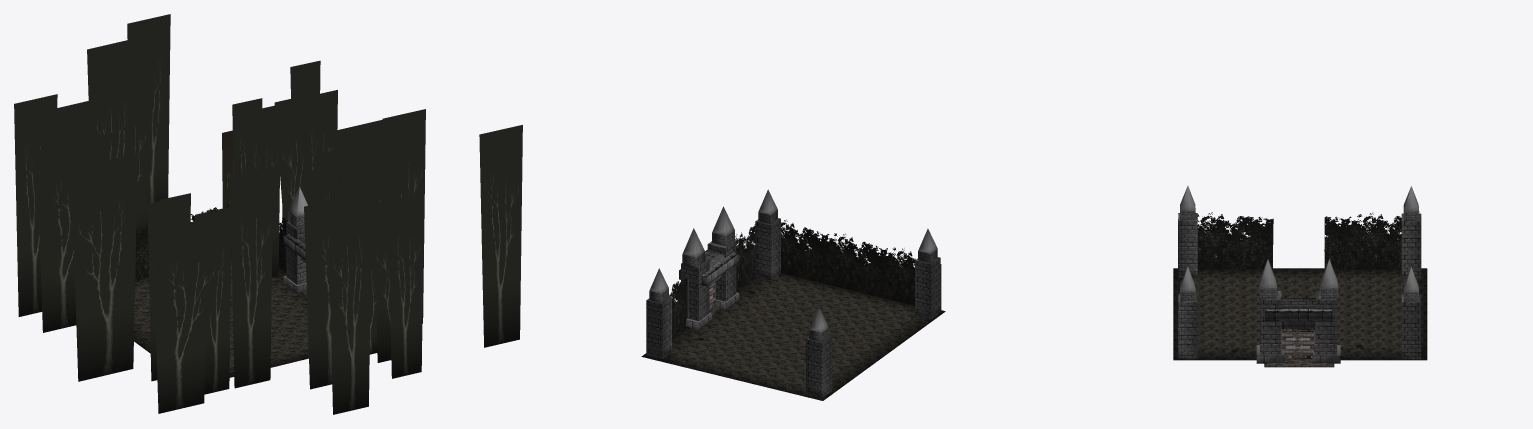
Rendered from room_39.glb.
3 renders of one model, left to right at view 1: azimuth 30°, elevation 25°; view 2: azimuth 150°, elevation 25°; view 3: azimuth 270°, elevation 25°, orthographic. The views are drawn at different scales.
Parts seen in each view (by area): view 1: pPlane277__billboard, pPlane79__billboard, pPlane50__billboard, pPlane269__billboard, pPlane287__billboard, pPlane291__billboard, pPlane281__billboard, pPlane271__billboard, pPlane288__billboard, Ground, pPlane286__billboard, pPlane280__billboard (+20 smaller); view 2: Ground, hedge, pCube126 (×6), pCube125 (×4), pCube137, pCube138, pCube136; view 3: Ground, hedge, pCube126 (×6), pCube136, pCube137, pCube138, SeemPatch.
Boxes of the visible parts, x1,y1,x2,y2 form: pPlane277__billboard: (71,154,137,381); pPlane79__billboard: (152,213,228,413); pPlane50__billboard: (328,192,371,414); pPlane269__billboard: (479,125,522,347); pPlane287__billboard: (230,165,273,388); pPlane291__billboard: (37,132,113,332); pPlane281__billboard: (14,94,57,316); pPlane271__billboard: (388,193,423,378); pPlane288__billboard: (304,189,380,389); Ground: (134,257,308,377); pPlane286__billboard: (127,14,170,203); pPlane280__billboard: (92,54,135,160); Ground: (641,273,945,400); hedge: (669,219,941,336); pCube126 (×6): (646,218,940,397); pCube125 (×4): (649,189,937,341); pCube137: (682,228,705,268); pCube138: (712,206,734,245); pCube136: (679,250,738,285); Ground: (1173,268,1427,360); hedge: (1178,212,1401,269); pCube126 (×6): (1178,213,1421,359); pCube136: (1265,298,1332,320); pCube137: (1320,259,1338,299); pCube138: (1259,259,1276,299); SeemPatch: (1264,359,1334,367).
Bounding box in the file's own units: 187 × 102 × 198.
Materials: 14 (13 with a texture image).
